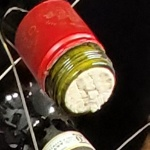bottle: (41, 36, 135, 134)
